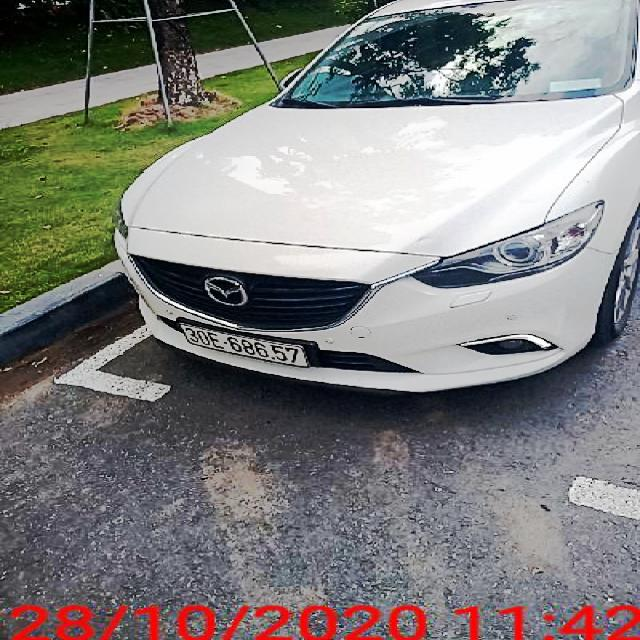license_plate: (182, 324, 310, 370)
